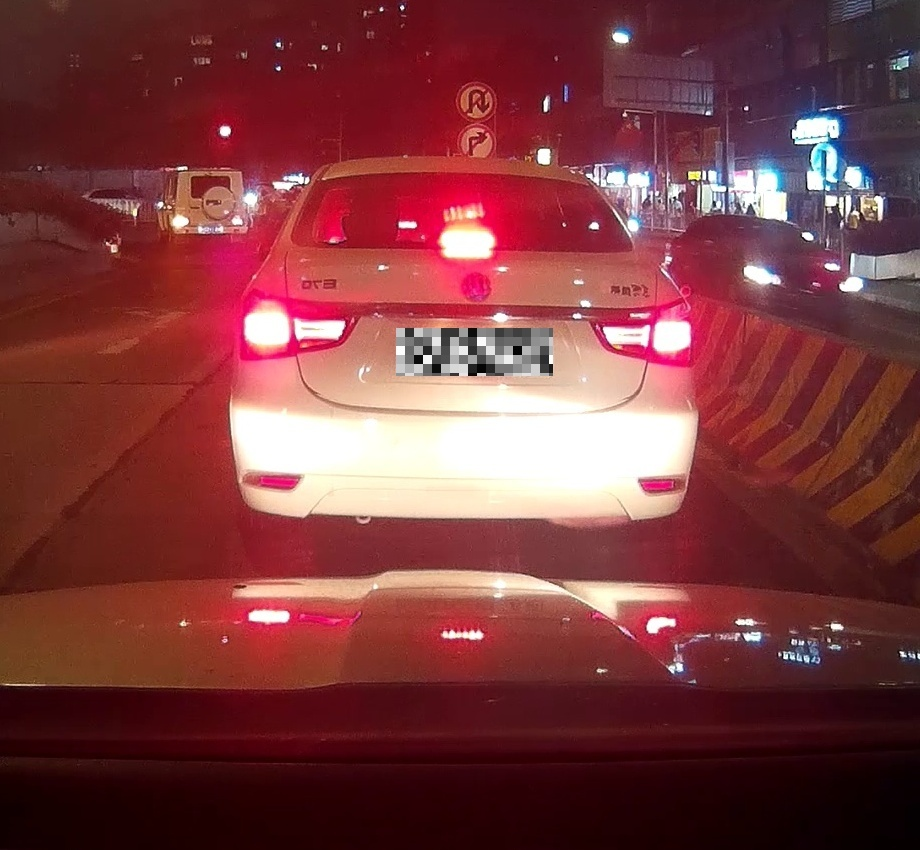L_light: (237, 289, 364, 361)
R_light: (587, 296, 695, 367)
T_light: (438, 228, 496, 252)
night-brake: (226, 156, 698, 542)
plate_1: (396, 328, 553, 376)
